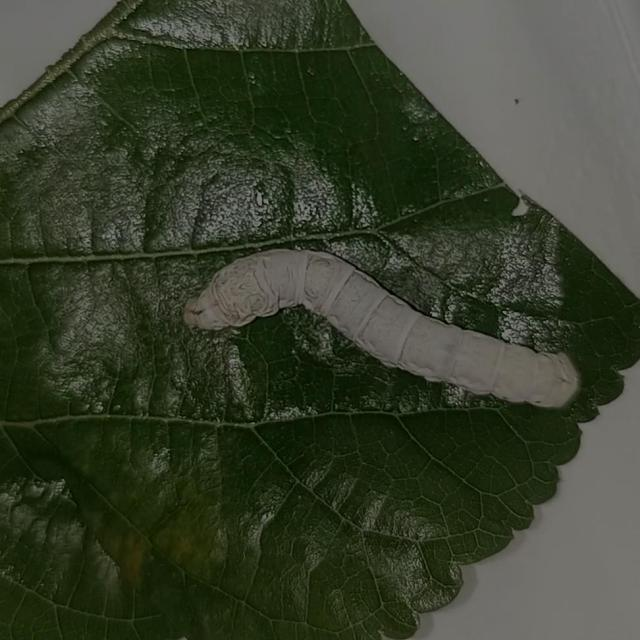Healthy: (158, 188, 590, 434)
